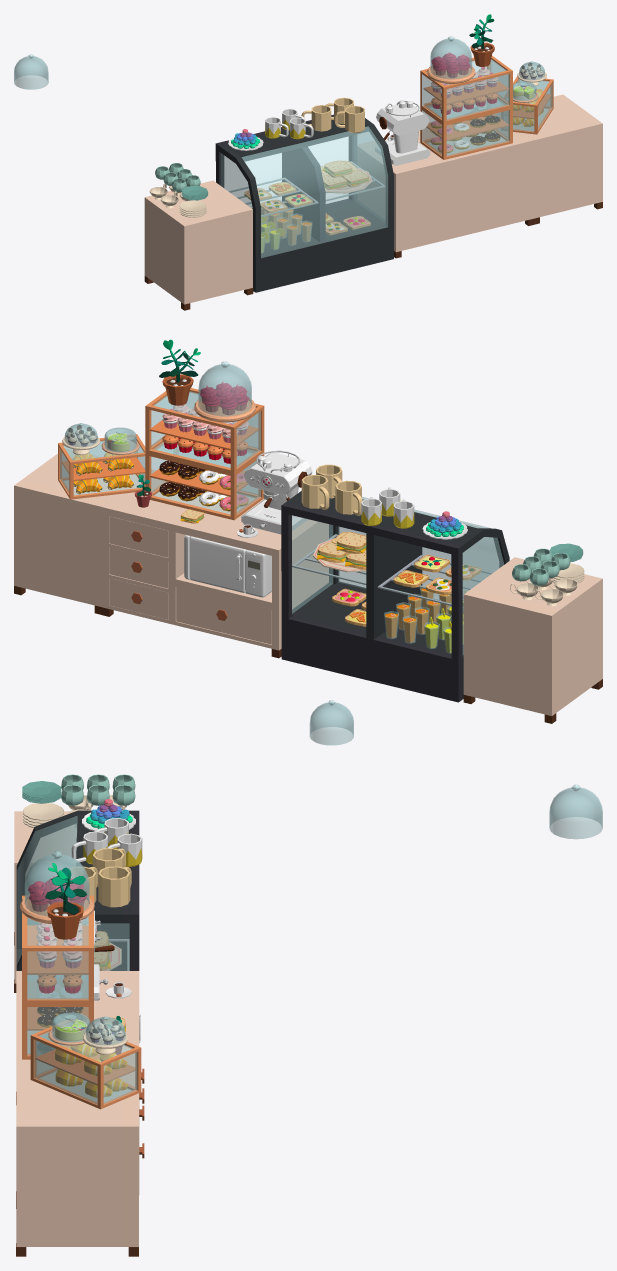
The model's file is SmallCafeCounter.glb.
3 renders of one model, top to bottom at view 1: azimuth 30°, elevation 25°; view 2: azimuth 150°, elevation 25°; view 3: azimuth 270°, elevation 25°, orthographic. The views are drawn at different scales.
Parts seen in each view (by area): view 1: glass (×8), frame (×4), cupboard, PW_cupboard_corner (1), PW_cupboard_corner, espressomachine 1, cup (×2), metal, PW_macaron_tower, plate; view 2: frame (×4), PW_cupboard_corner (1), glass (×8), cupboard, PW_cupboard_corner, drawer04, espressomachine 1, polySurface26, cup (×3), drawer01, drawer03, drawer02 (+7 smaller); view 3: glass (×8), PW_cupboard_corner, frame (×4), cupboard, cup (×3), PW_cupboard_corner (1), polySurface11, PW_macaron_tower, pot, cup (1), plate.
Boxes of the visible parts, x1,y1,x2,y2 form: glass (×8): [14, 36, 552, 257]; frame (×4): [215, 55, 553, 292]; cupboard: [358, 113, 534, 258]; PW_cupboard_corner (1): [144, 180, 253, 310]; PW_cupboard_corner: [498, 94, 602, 224]; espressomachine 1: [375, 101, 430, 165]; cup (×2): [301, 105, 364, 133]; metal: [229, 161, 385, 217]; PW_macaron_tower: [228, 129, 263, 150]; plate: [427, 66, 475, 83]; frame (×4): [58, 388, 509, 702]; PW_cupboard_corner (1): [463, 557, 602, 723]; glass (×8): [60, 361, 503, 745]; cupboard: [102, 470, 328, 658]; PW_cupboard_corner: [14, 449, 152, 614]; drawer04: [176, 587, 271, 644]; espressomachine 1: [241, 452, 312, 534]; polySurface26: [189, 536, 246, 592]; cup (×3): [301, 474, 381, 525]; drawer01: [109, 516, 168, 557]; drawer03: [109, 578, 168, 619]; drawer02: [109, 547, 168, 588]; glass (×8): [17, 784, 602, 1104]; PW_cupboard_corner: [16, 1074, 138, 1256]; frame (×4): [16, 810, 141, 1109]; cupboard: [16, 971, 139, 1195]; cup (×3): [92, 833, 142, 907]; PW_cupboard_corner (1): [14, 811, 76, 992]; polySurface11: [45, 863, 86, 914]; PW_macaron_tower: [82, 799, 135, 832]; pot: [47, 902, 83, 939]; cup (1): [71, 831, 107, 864]; plate: [20, 894, 94, 923].
Size of the model in its own units: 2.91 by 1.36 by 2.29.
Materials: 4 (3 with a texture image).
